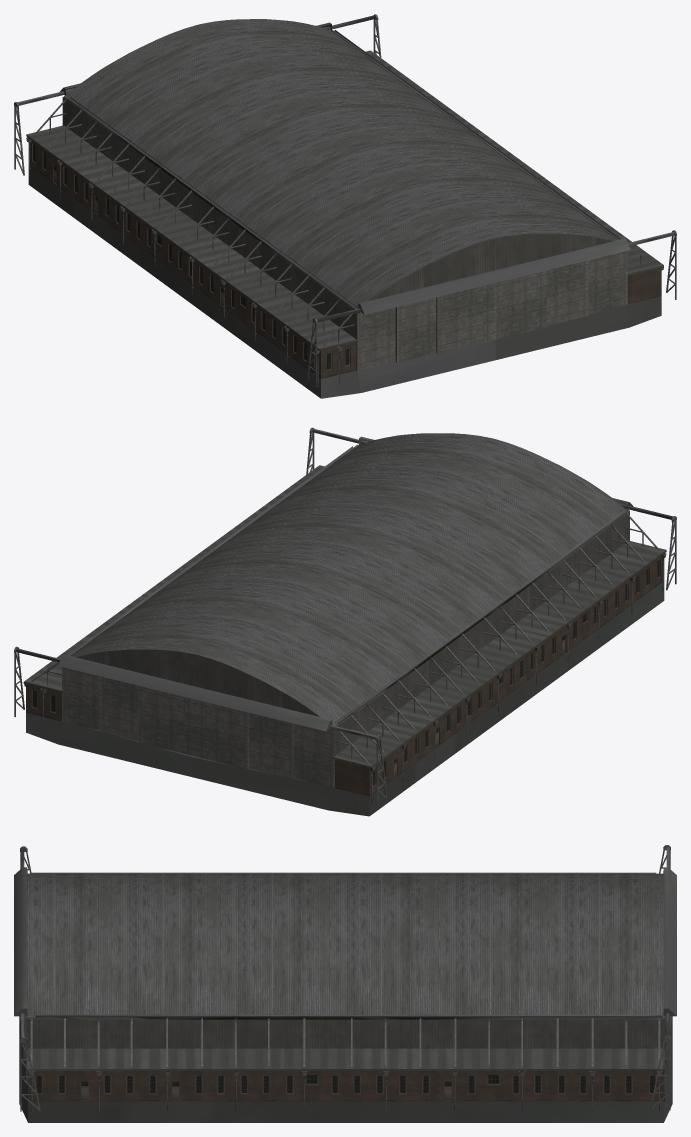
The model's file is hangar-j.walls-v1.lod0.glb.
3 views of the same model, one above another, from view 1: azimuth 30°, elevation 25°; view 2: azimuth 150°, elevation 25°; view 3: azimuth 270°, elevation 25° (orthographic). The views are drawn at different scales.
Parts seen in each view (by area): view 1: Object_2; view 2: Object_2; view 3: Object_2.
Part boxes in pixels (bbox=[...]): Object_2: bbox=[14, 14, 676, 398]; Object_2: bbox=[14, 427, 676, 816]; Object_2: bbox=[14, 845, 676, 1122].
Size of the model in its own units: 61.89 by 19.3 by 89.88.
1 material, 1 textured.
